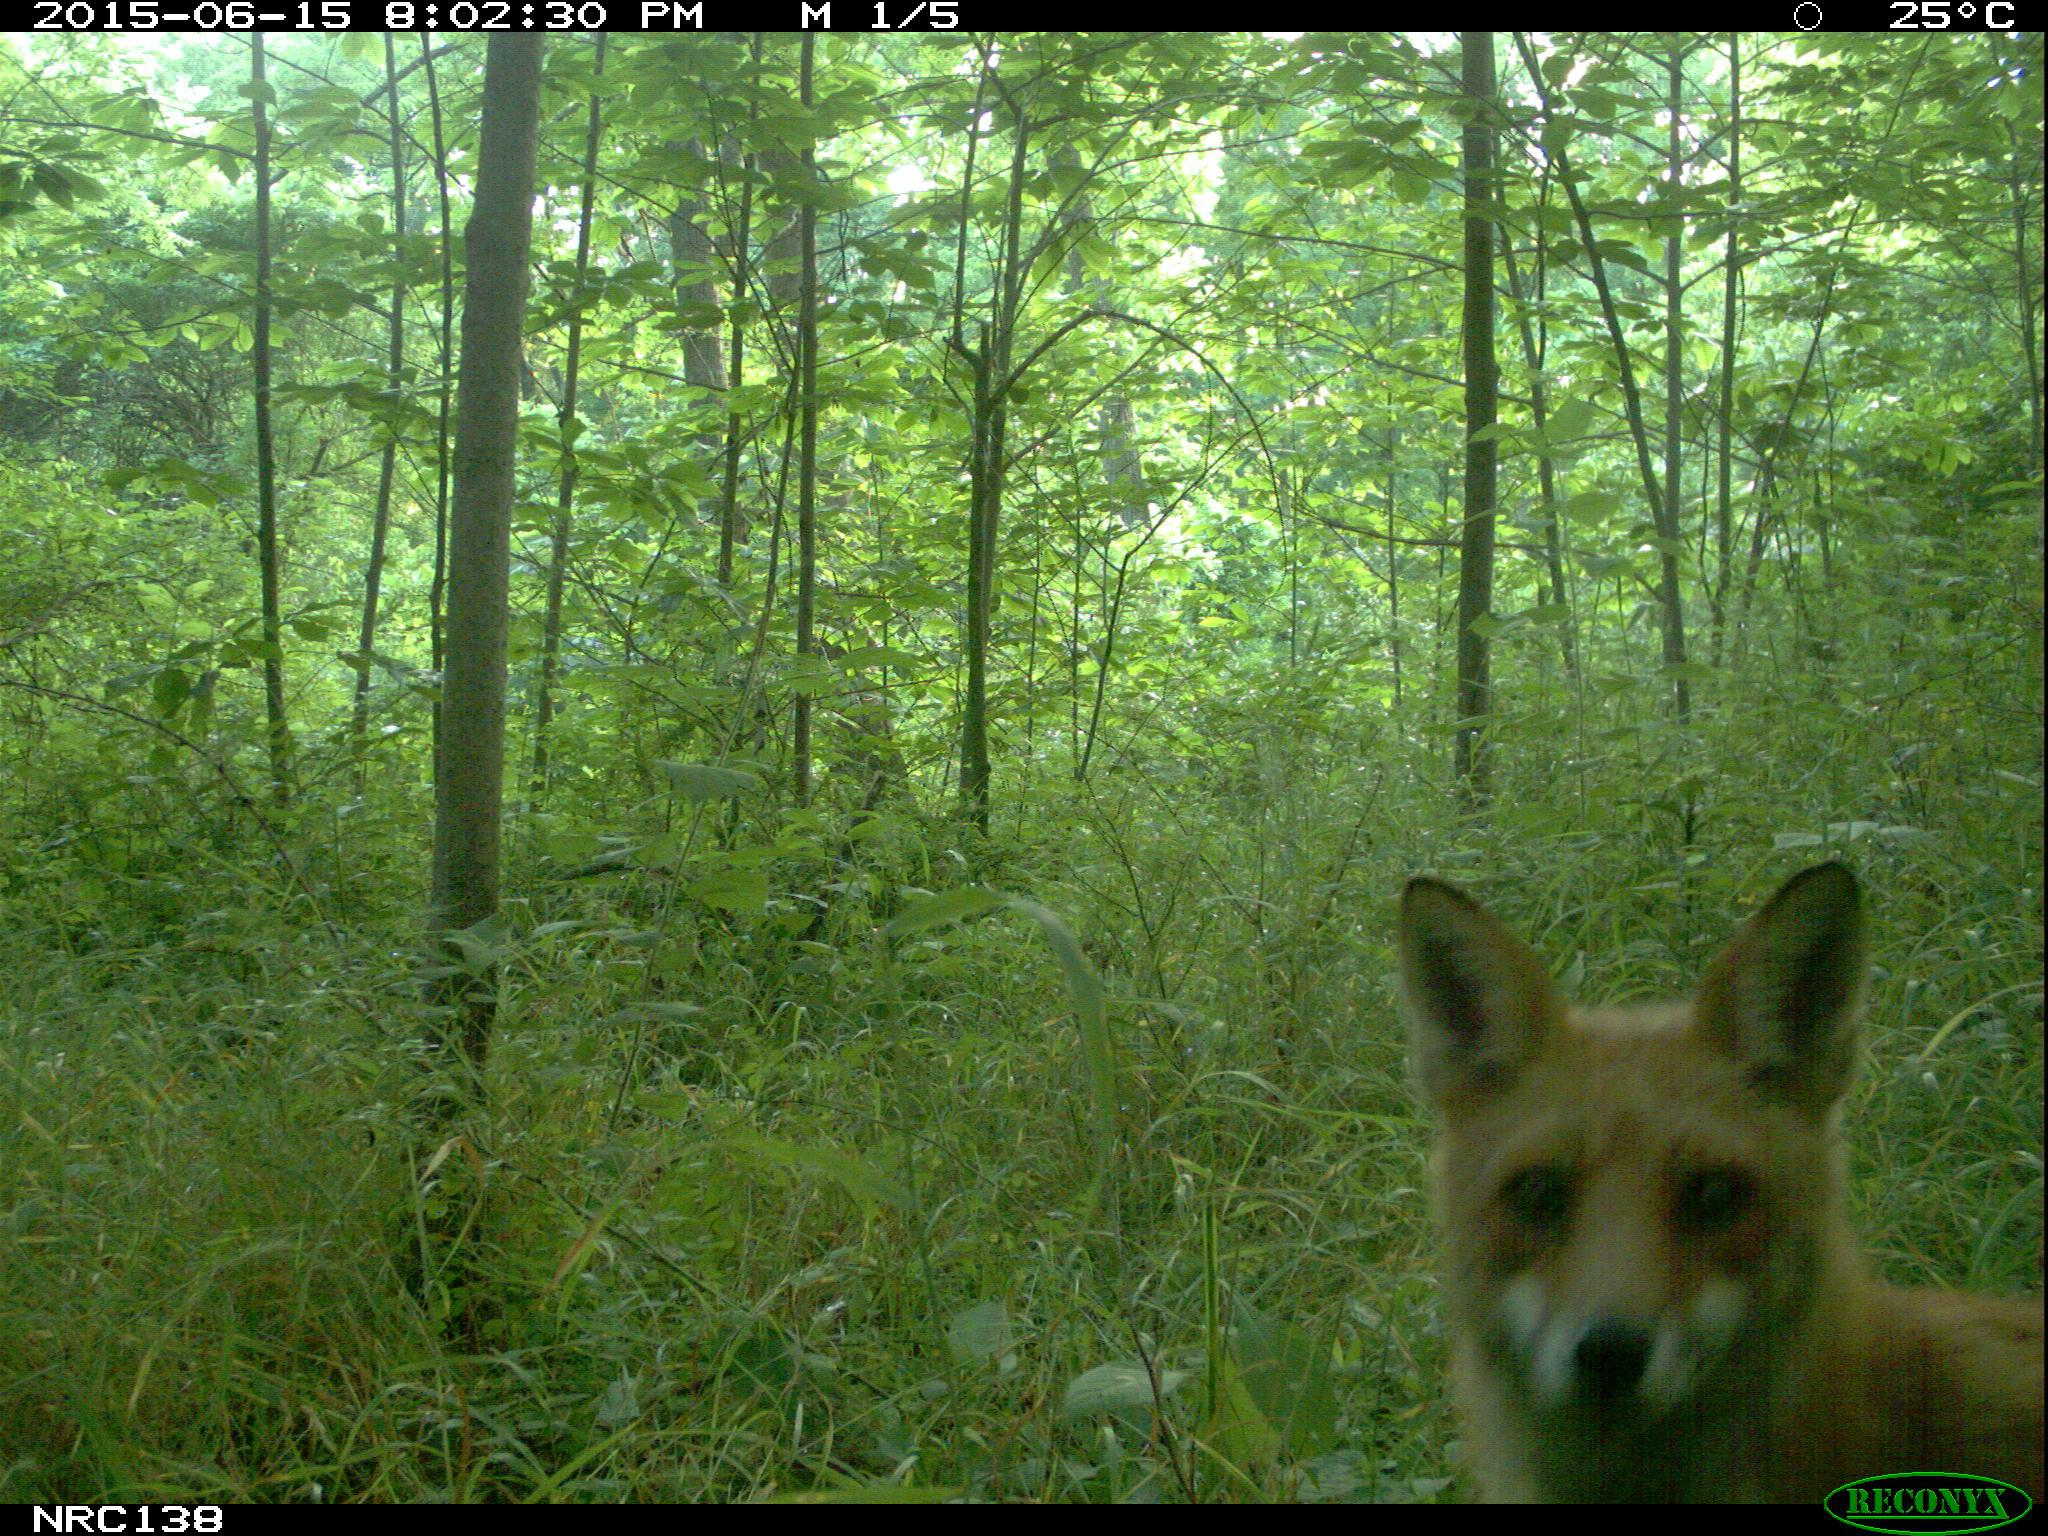Animal: (1397, 865, 2048, 1501)
